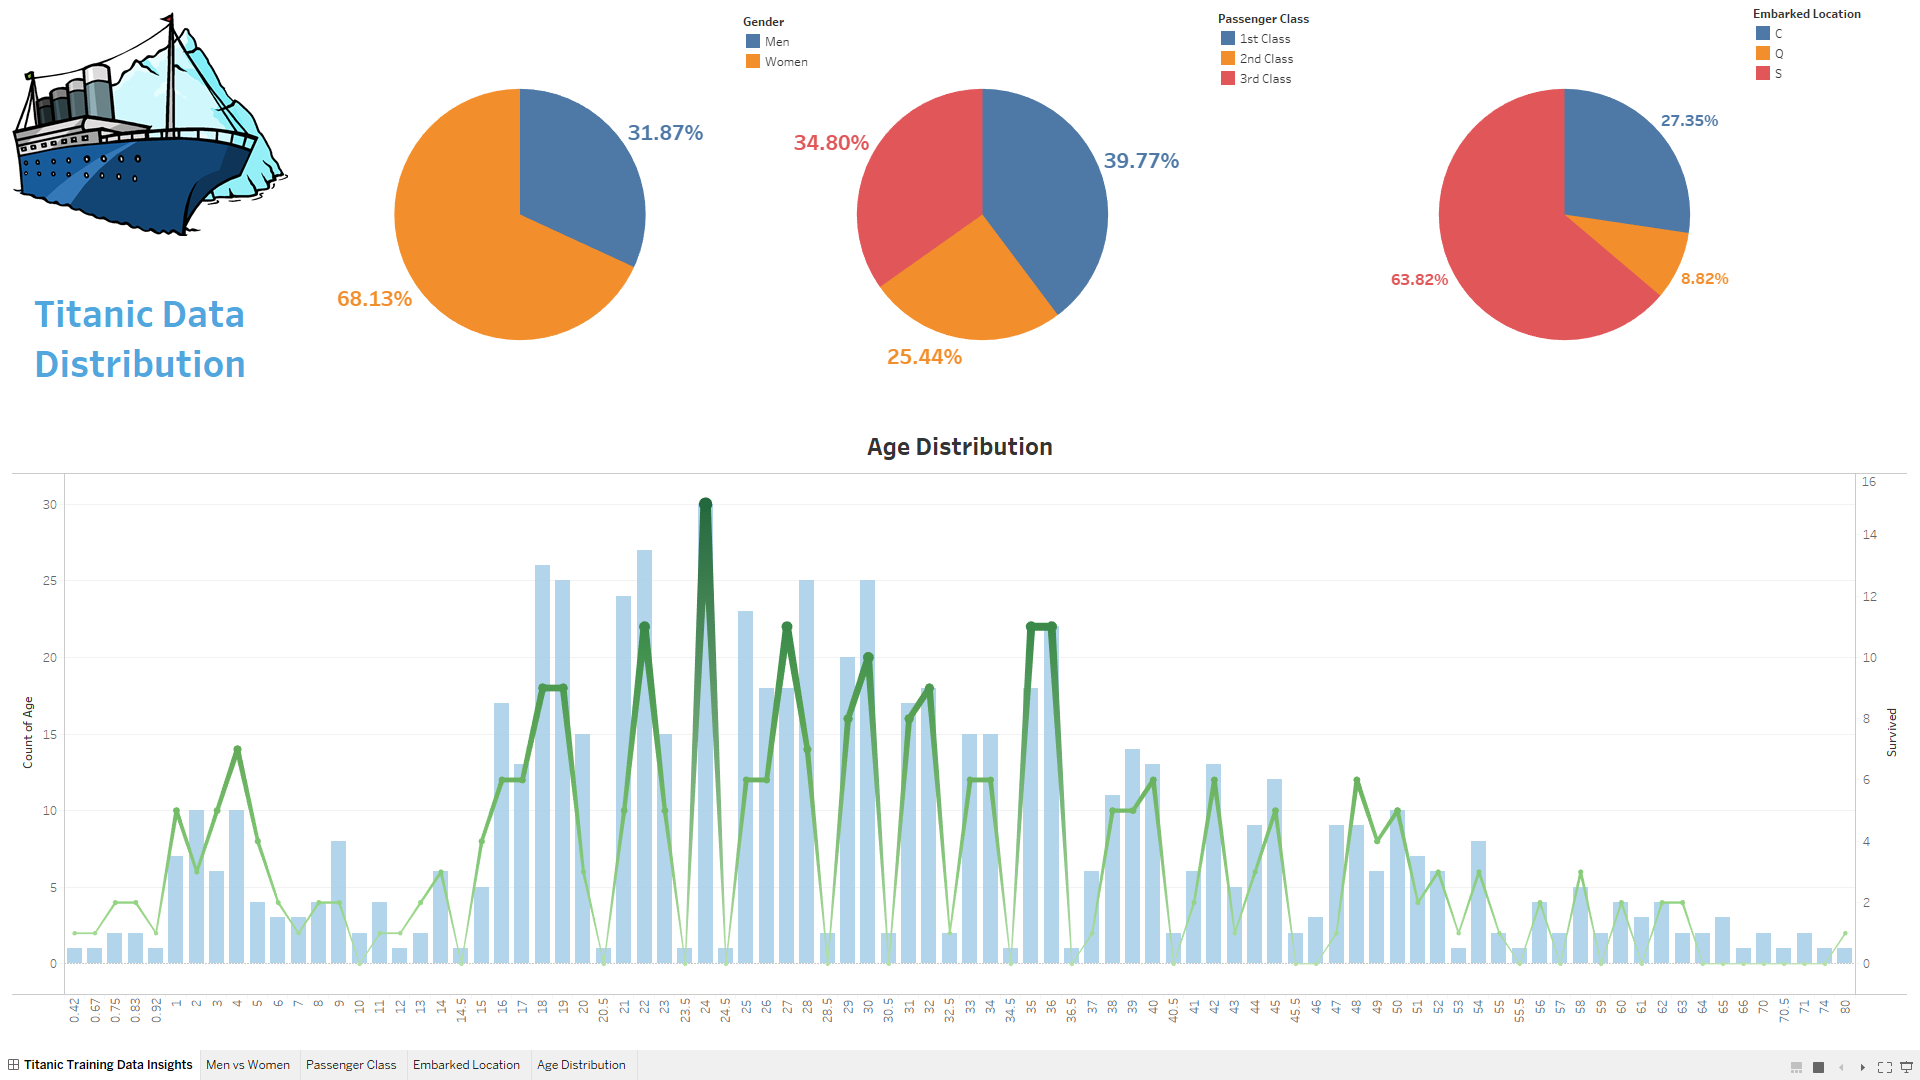

This screenshot's page, from the dashboard's own definition file:
{"tool":"tableau","page":{"name":"Titanic Training Data Insights","canvas":[1000,1000],"units":"permille","ordinal":0},"visuals":[{"type":"worksheet","box":[0,0,1000,1000]},{"type":"worksheet","title":"Embarked Location","mark":"Pie","param":"[federated.000u9gj1fwiwme1efb0fh1haaidr].[none:Embarked:nk]","box":[912.8,4.4,80.8,118.4]},{"type":"worksheet","param":"horz","box":[4.7,8.8,990.6,392.7]},{"type":"worksheet","box":[4.7,8.8,707.4,392.7]},{"type":"worksheet","param":"Image/titanic_clip_art.png","box":[4.7,8.8,166.1,392.7]},{"type":"worksheet","title":"Men vs Women","mark":"Pie","box":[170.8,8.8,266.8,392.7]},{"type":"worksheet","title":"Passenger Class","mark":"Pie","box":[437.6,8.8,274.5,392.7]},{"type":"worksheet","title":"Embarked Location","mark":"Pie","box":[712.1,8.8,283.2,392.7]},{"type":"worksheet","title":"Passenger Class","mark":"Pie","param":"[federated.000u9gj1fwiwme1efb0fh1haaidr].[none:Pclass:ok]","box":[634.3,10,65.5,96.2]},{"type":"worksheet","title":"Men vs Women","mark":"Pie","param":"[federated.000u9gj1fwiwme1efb0fh1haaidr].[none:Sex:nk]","box":[386.8,12.2,46.8,78.5]},{"type":"worksheet","box":[16.4,240,153.3,161.5]},{"type":"worksheet","title":"Age Distribution","mark":"Automatic","rows":["Age","Survived"],"cols":["Age"],"box":[4.7,401.5,990.6,589.6]},{"type":"worksheet","title":"Age Distribution","mark":"Automatic","rows":["Age","Survived"],"cols":["Age"],"param":"[federated.000u9gj1fwiwme1efb0fh1haaidr].[cnt:Survived:qk]","box":[803.4,554.2,187.2,85.2]}]}

Visuals, with their boxes on the dashboard's canvas, which has no fixed pixel size, in thousandths of its width and height (x1, y1, x2, y2). These are canvas units, not pixel positions in the 1920x1080 screenshot, which may show the page scaled, cropped or inside an application window:
worksheet: 0/0/1000/1000
"Embarked Location" worksheet (Pie marks): 913/4/994/123
worksheet: 5/9/995/402
worksheet: 5/9/712/402
worksheet: 5/9/171/402
"Men vs Women" worksheet (Pie marks): 171/9/438/402
"Passenger Class" worksheet (Pie marks): 438/9/712/402
"Embarked Location" worksheet (Pie marks): 712/9/995/402
"Passenger Class" worksheet (Pie marks): 634/10/700/106
"Men vs Women" worksheet (Pie marks): 387/12/434/91
worksheet: 16/240/170/402
"Age Distribution" worksheet: 5/402/995/991
"Age Distribution" worksheet: 803/554/991/639
